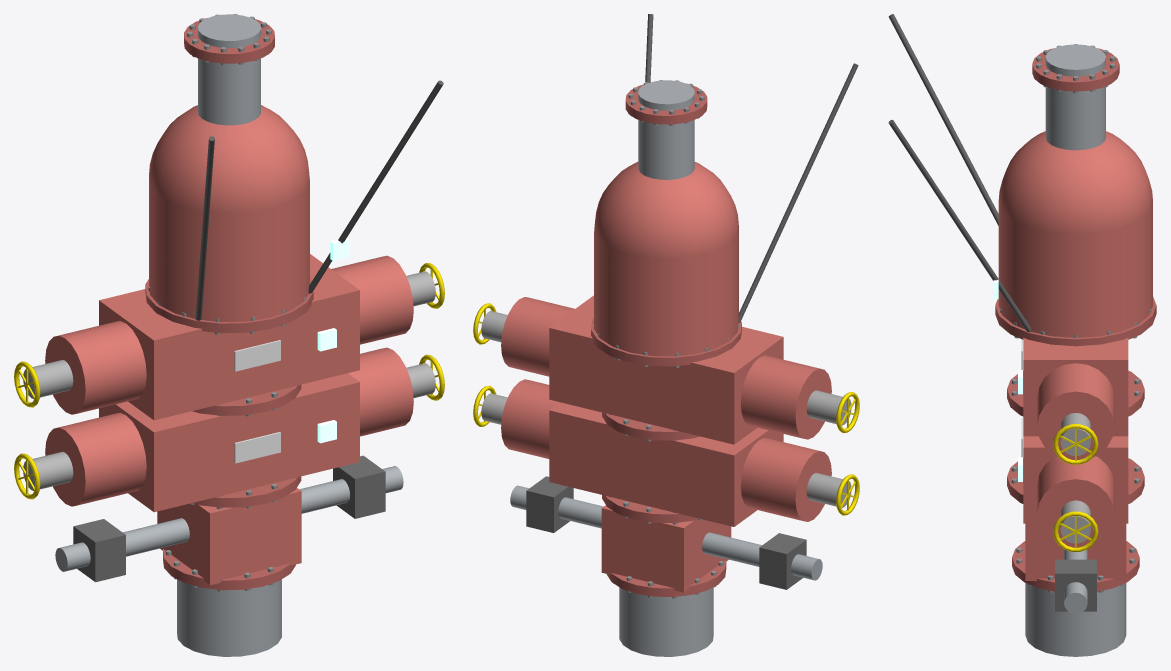
File: bop.glb
The picture shows the model from 3 angles, left to right: view 1: azimuth 30°, elevation 25°; view 2: azimuth 150°, elevation 25°; view 3: azimuth 270°, elevation 25°; orthographic projection. The views are drawn at different scales.
Visible parts, largest first — view 1: object 12, object 7, object 17, object 18, object 2, object 1, object 8, object 13, object 19, inst (×3), object 15, object 10 (+15 smaller); view 2: object 12, object 7, object 17, object 18, object 2, object 1, object 8, object 13, object 19, object 15, object 10, inst (×2) (+14 smaller); view 3: object 17, object 18, object 1, object 19, object 15, object 12, object 10, object 7, object 2, inst (×3), object 25, object 6 (+9 smaller).
Boxes of the visible parts, box(x1,y1,x2,y2) form: object 12: box(99, 254, 359, 420); object 7: box(99, 373, 359, 512); object 17: box(149, 178, 309, 322); object 18: box(149, 105, 309, 213); object 2: box(157, 488, 301, 585); object 1: box(177, 579, 281, 656); object 8: box(45, 413, 146, 506); object 13: box(45, 321, 146, 414); object 19: box(198, 14, 260, 125); inst (×3): box(14, 14, 444, 591); object 15: box(331, 255, 413, 344); object 10: box(348, 347, 413, 436); object 12: box(549, 295, 783, 444); object 7: box(549, 402, 783, 526); object 17: box(594, 226, 738, 356); object 18: box(594, 162, 738, 258); object 2: box(601, 505, 731, 592); object 1: box(619, 587, 713, 656); object 8: box(740, 437, 831, 521); object 13: box(740, 355, 831, 439); object 19: box(638, 80, 694, 179); object 15: box(501, 297, 574, 376); object 10: box(501, 379, 559, 458); inst (×2): box(473, 80, 859, 598); object 17: box(998, 202, 1152, 337); object 18: box(998, 131, 1152, 234); object 1: box(1025, 583, 1126, 656); object 19: box(1045, 44, 1105, 150); object 15: box(1037, 363, 1114, 459); object 12: box(1023, 337, 1128, 436); object 10: box(1037, 456, 1114, 547); object 7: box(1023, 436, 1128, 523); object 2: box(1025, 523, 1126, 580); inst (×3): box(1000, 44, 1151, 592); object 25: box(995, 296, 1156, 346); object 6: box(1055, 559, 1096, 611).
Size of the model in its own units: 5.35 by 7.6 by 3.19.
